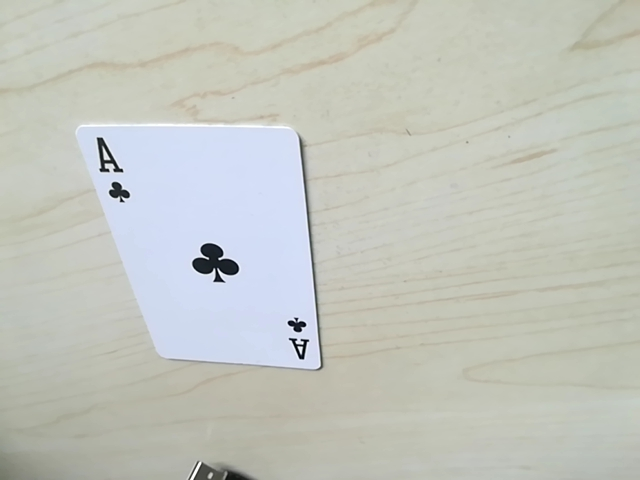mh a: (90, 139, 134, 209), (281, 307, 318, 367)
